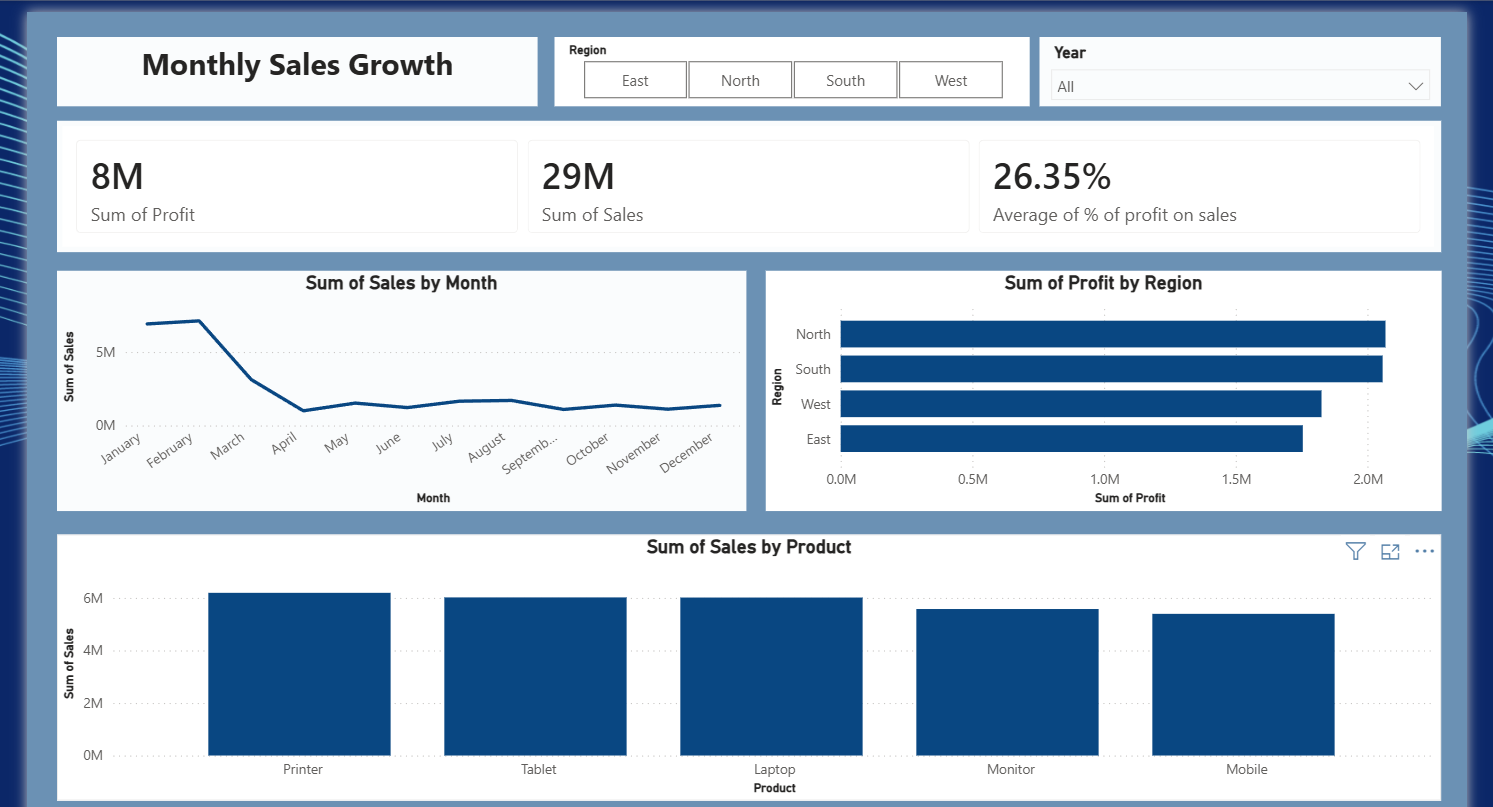

What the dashboard file says about the page in this screenshot:
{"tool":"powerbi","page":{"name":"Dashboard","canvas":[1280,720],"ordinal":0},"visuals":[{"type":"cardVisual","fields":{"Data":["Sum(salesdb sales_data.Profit)","Sum(salesdb sales_data.Sales)","Avg(salesdb sales_data.% of profit on sales)"]},"box":[26.5,96.5,1230.6,117],"z":0},{"type":"lineChart","fields":{"Category":["salesdb sales_data.Order_Date.Variation.Date Hierarchy.Month"],"Y":["Sum(salesdb sales_data.Sales)"]},"box":[26.5,230.4,612.9,213.5],"z":1000},{"type":"barChart","fields":{"Category":["salesdb sales_data.Region"],"Y":["Sum(salesdb sales_data.Profit)"]},"box":[656.3,230.4,600.8,213.5],"z":2000},{"type":"columnChart","fields":{"Category":["salesdb sales_data.Product"],"Y":["Sum(salesdb sales_data.Sales)"]},"box":[26.5,464.5,1230.6,236.5],"z":3000},{"type":"slicer","fields":{"Values":["salesdb sales_data.Order_Date.Variation.Date Hierarchy.Year"]},"box":[900,21.7,357.1,61.5],"z":4000},{"type":"slicer","fields":{"Values":["salesdb sales_data.Region"]},"box":[469.3,21.7,422.3,61.5],"z":5000},{"type":"textbox","box":[26.5,21.7,427.1,61.5],"z":6000}]}

Visuals, with their boxes in screenshot pixels (x1, y1, x2, y2):
cardVisual - Sum(salesdb sales_data.Profit) x Sum(salesdb sales_data.Sales): box(54, 111, 1467, 245)
lineChart - salesdb sales_data.Order_Date.Variation.Date Hierarchy.Month x Sum(salesdb sales_data.Sales): box(54, 265, 758, 510)
barChart - salesdb sales_data.Region x Sum(salesdb sales_data.Profit): box(777, 265, 1467, 510)
columnChart - salesdb sales_data.Product x Sum(salesdb sales_data.Sales): box(54, 533, 1467, 805)
slicer - salesdb sales_data.Order_Date.Variation.Date Hierarchy.Year: box(1057, 25, 1467, 96)
slicer - salesdb sales_data.Region: box(562, 25, 1047, 96)
textbox: box(54, 25, 544, 96)
